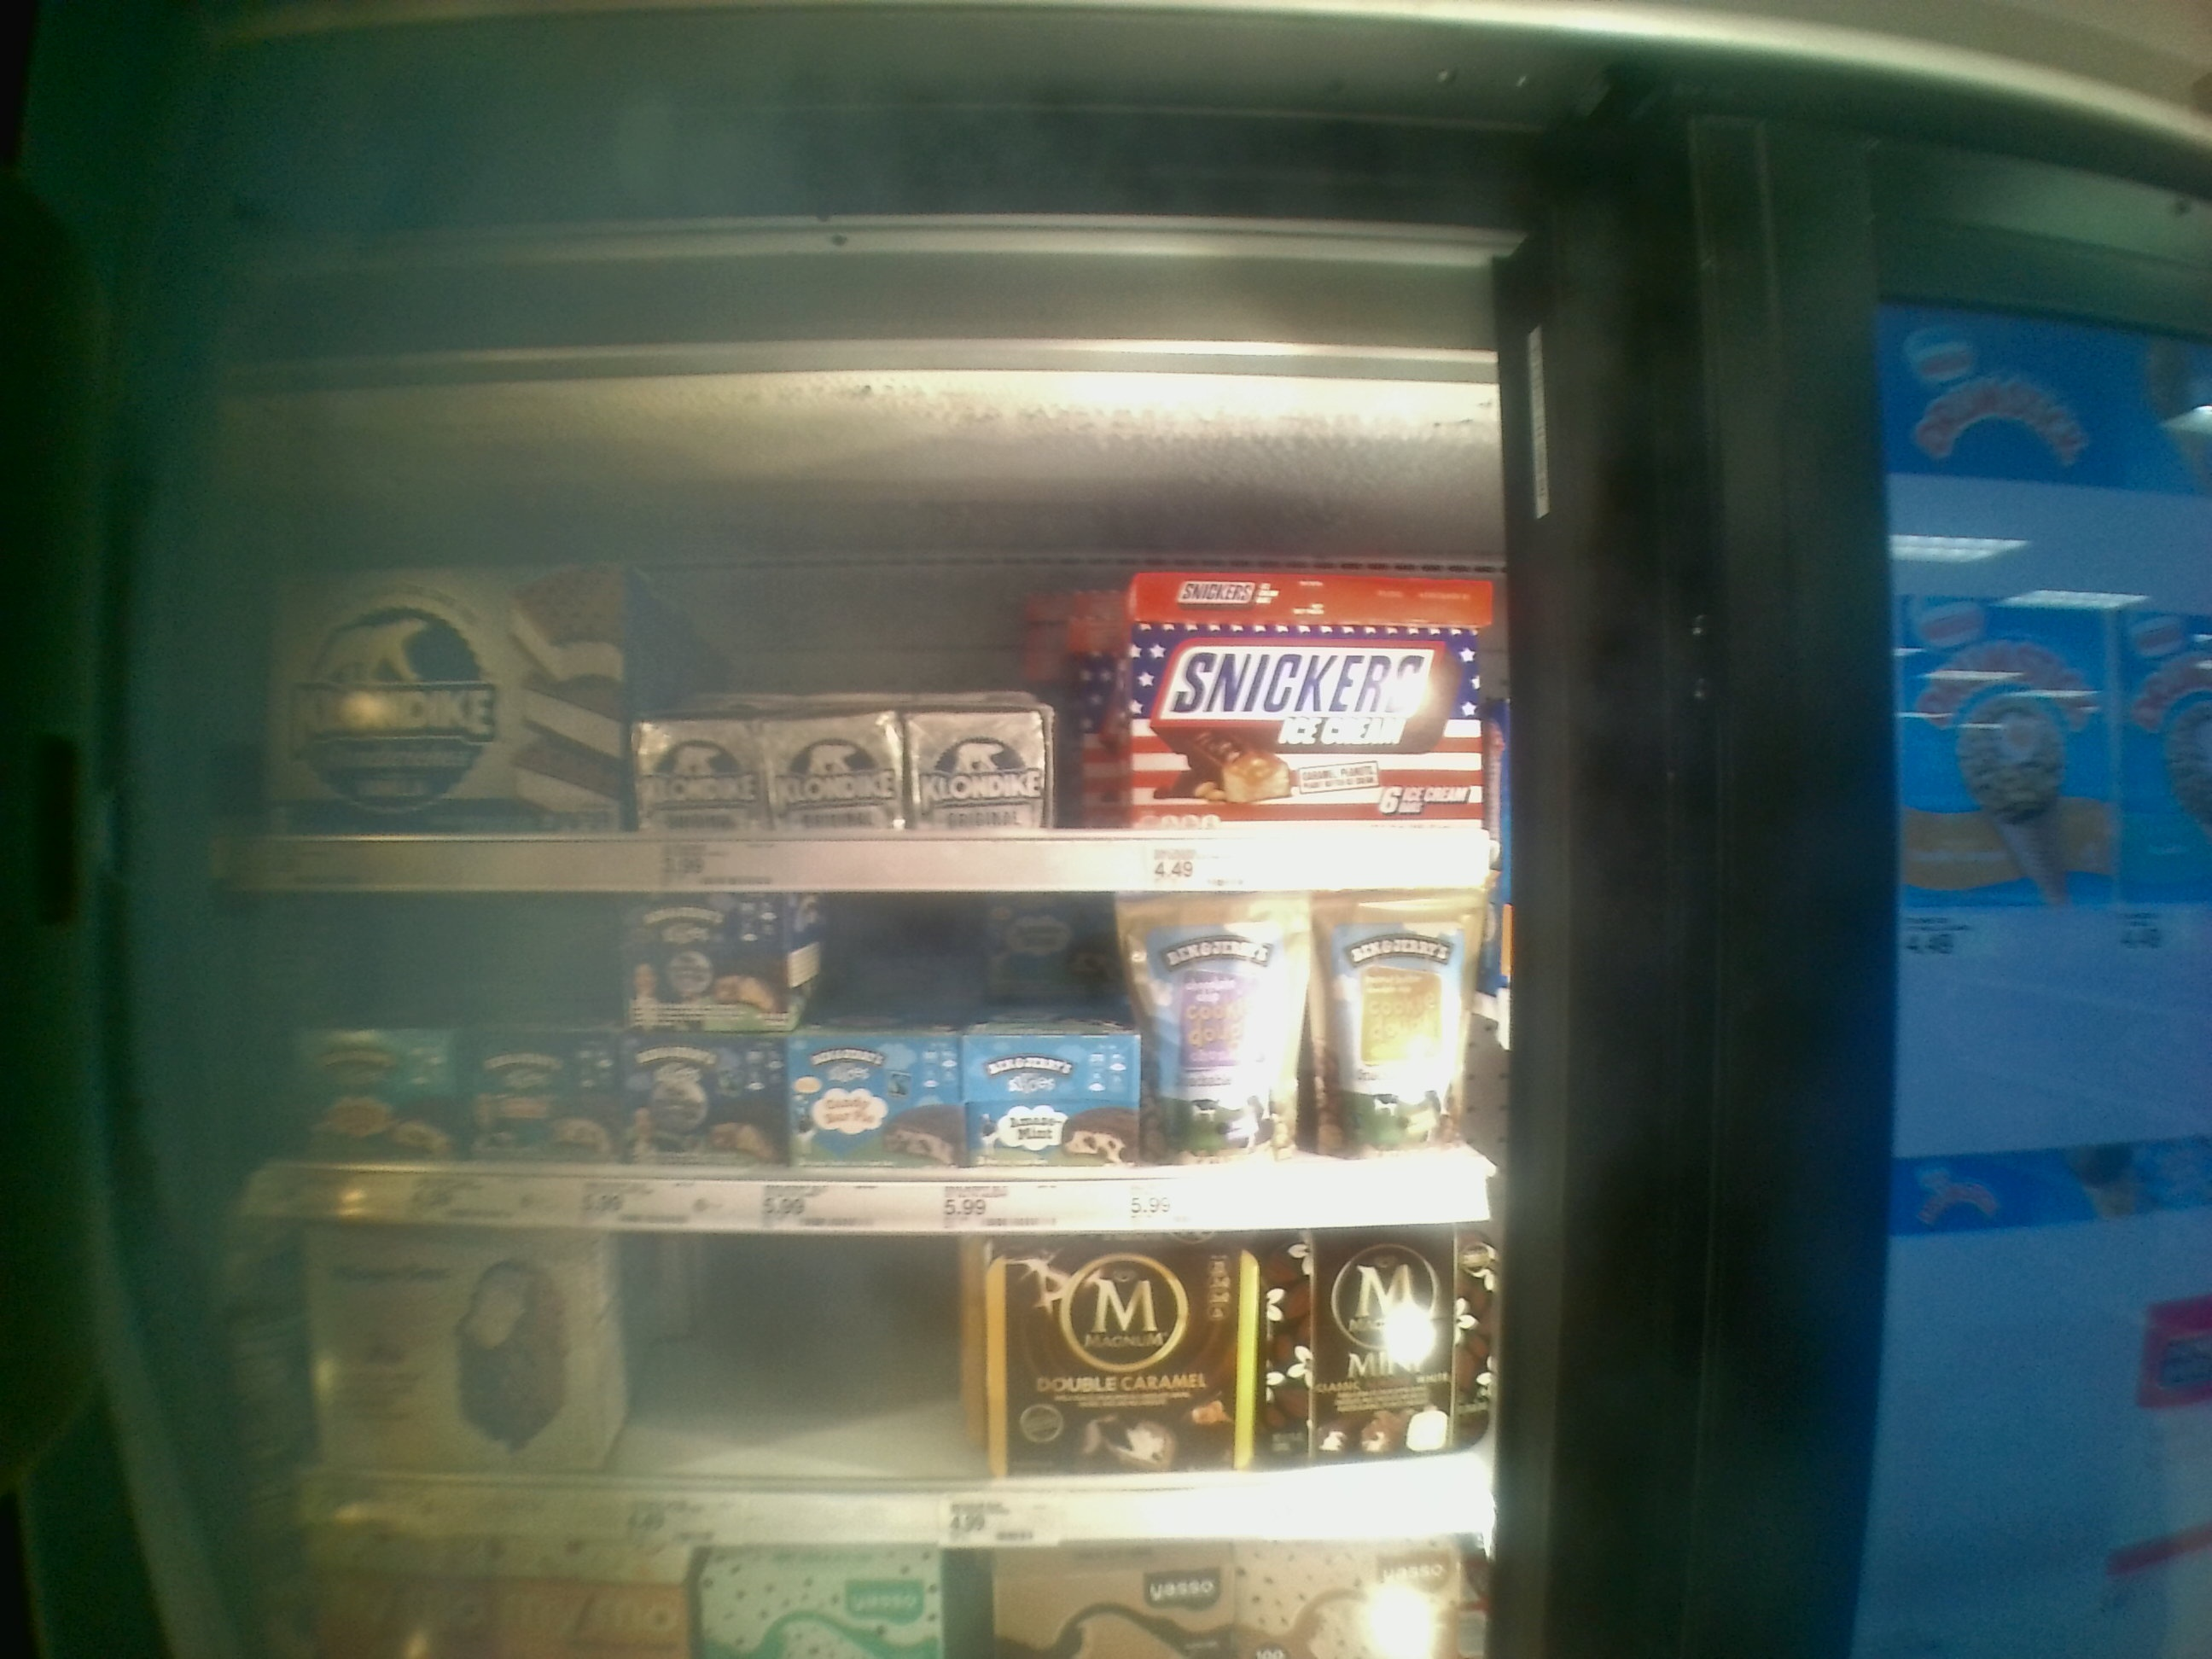ice-cream-shelf: (244, 361, 1505, 889), (244, 894, 1526, 1229), (235, 1234, 1519, 1547)
